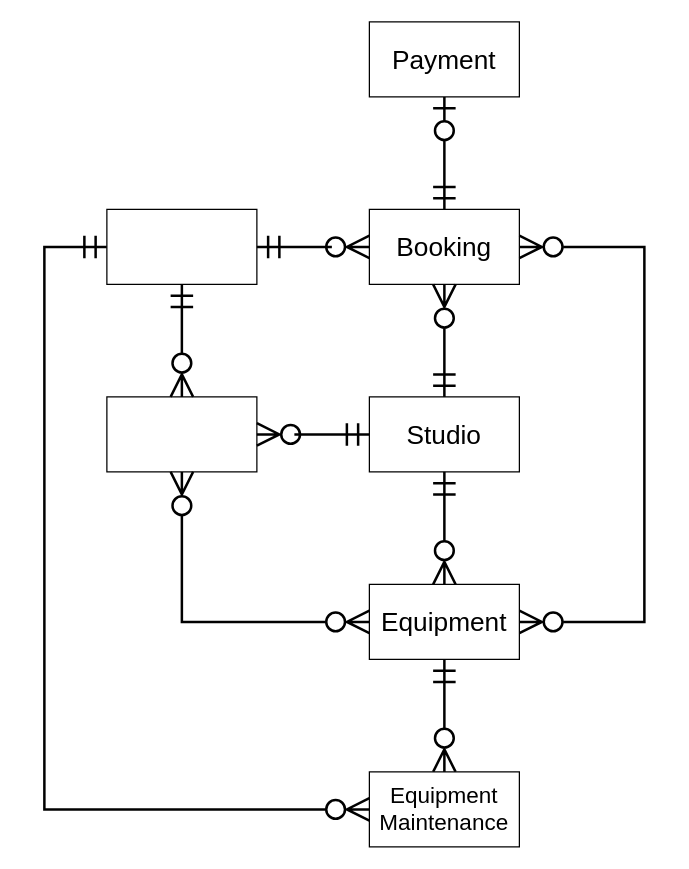
Image size: 689x869. Some labels were removed from this diagram. The centre of each missing label's shape, as x and y in pixels:
"Review" goes at point (181, 434).
"User" goes at point (181, 246).
